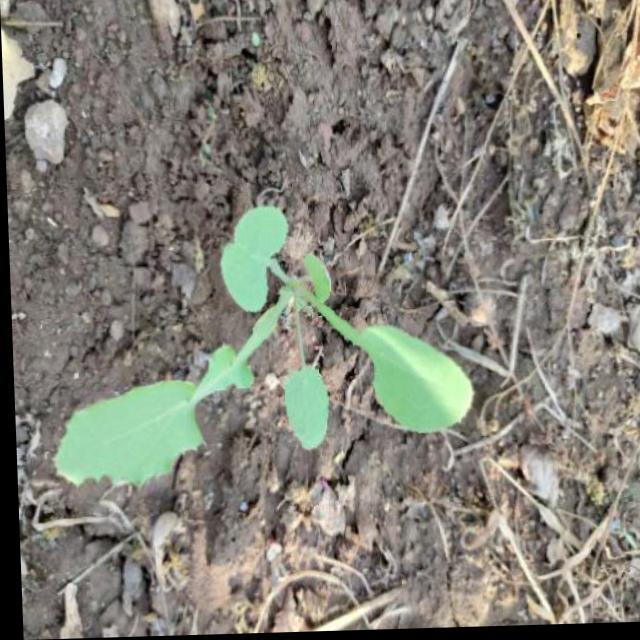weed: (36, 199, 485, 535)
